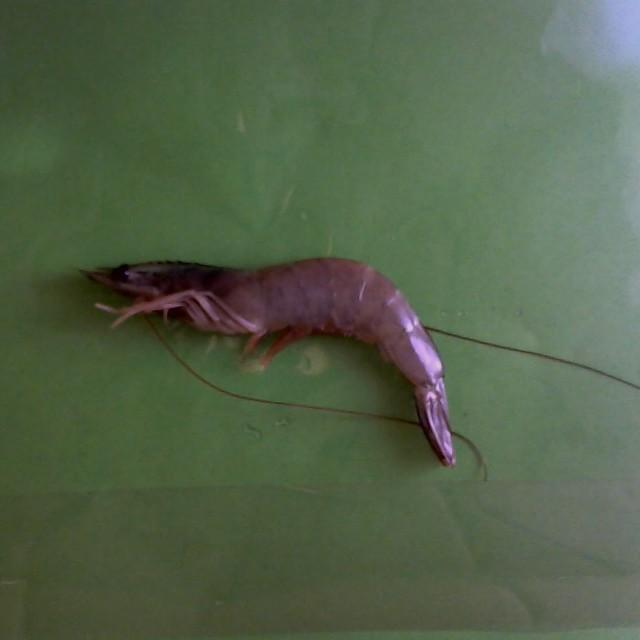shrimp: (86, 258, 456, 468)
